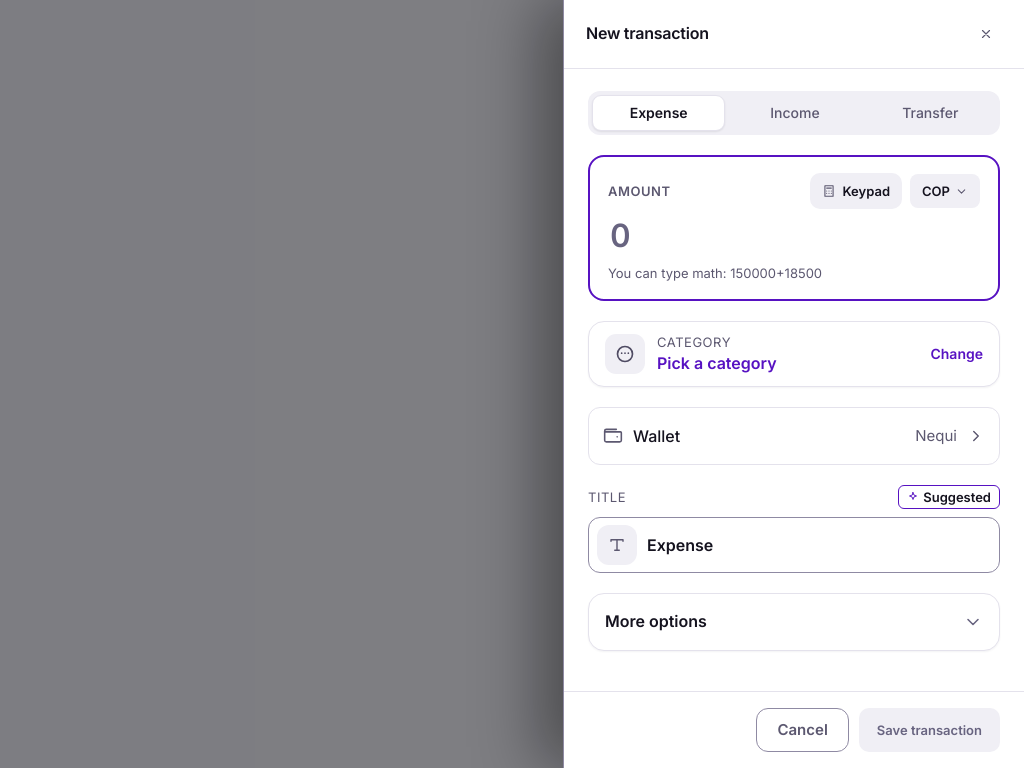
Scenario: English › keeps a category the user renamed as they wrote it
The width and height of the screenshot is (1024, 768).
Click the text "Pick a category".
click(717, 362)  # box x1=657 y1=352 x2=777 y2=372
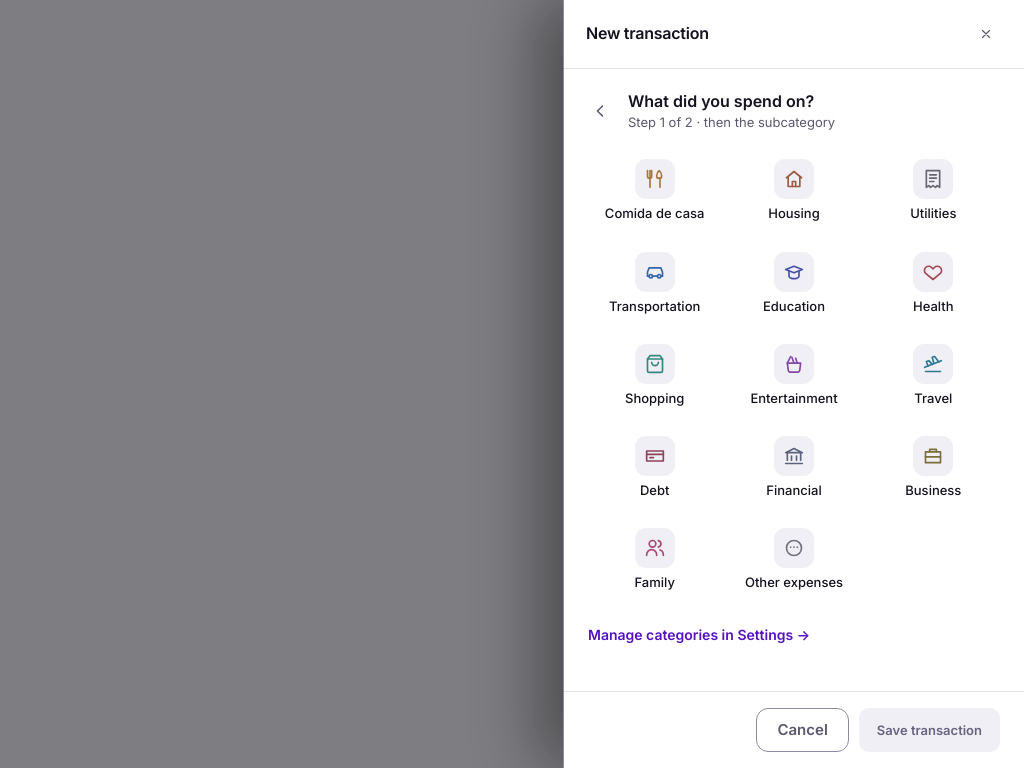
Check: the text "Comida de casa" is shown, box x1=605 y1=205 x2=704 y2=221
Check: the text "Housing" is shown, box x1=768 y1=205 x2=820 y2=221
